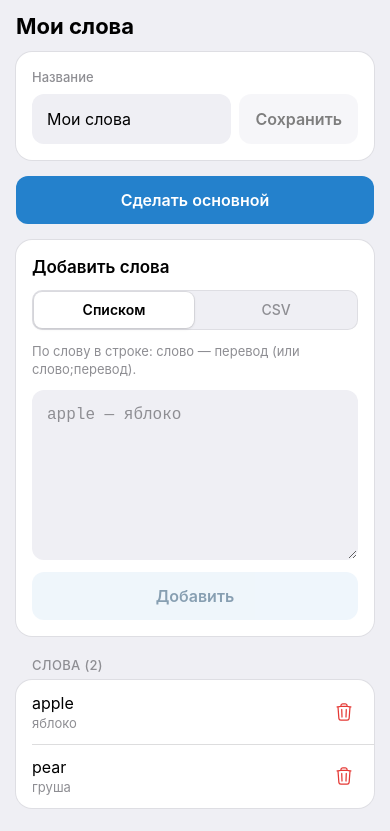
Test: DeckEditView › adding words › the word limit › shows the general refusal of the server to a Pro learner when there are no numbers to quote
Type "plum — слива" into the text box with test id "text-input" at {"x": 195, "y": 475}, box [32, 390, 358, 560]
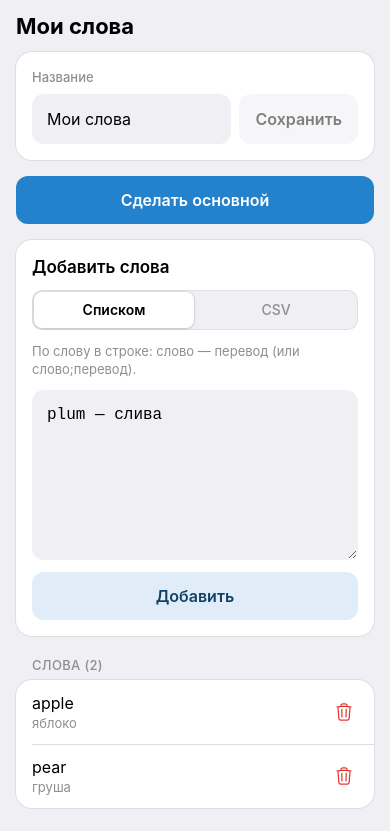
Click the button with test id "add-btn" at {"x": 195, "y": 596}, box [32, 572, 358, 620]
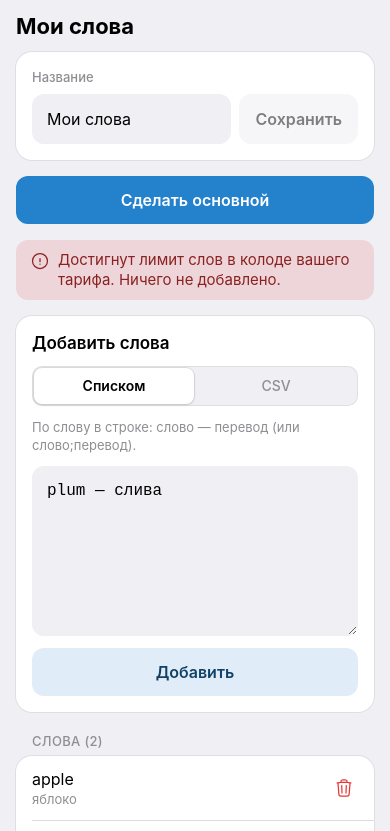
Expected: the message with test id "write-error" reads "Достигнут лимит слов в колоде вашего тарифа. Ничего не добавлено.", [58, 250, 350, 289]
